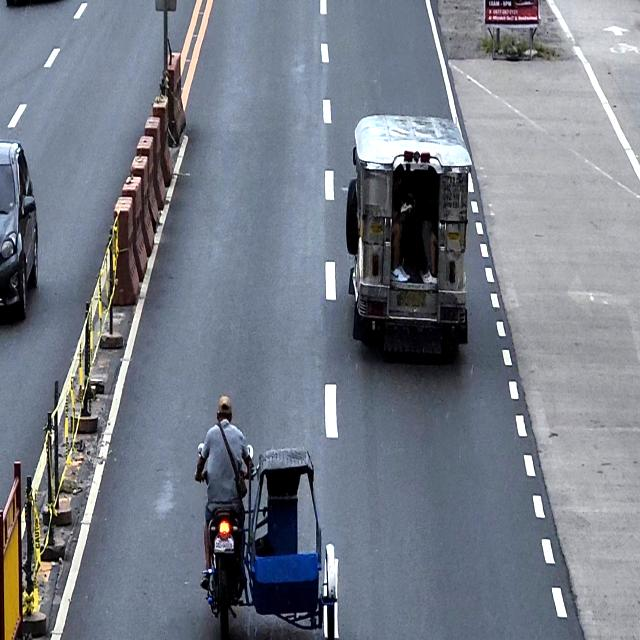Car: (0, 138, 38, 318)
Jeep: (345, 113, 473, 360)
License-Plate: (214, 534, 235, 554)
Tricycle: (194, 433, 338, 638)
